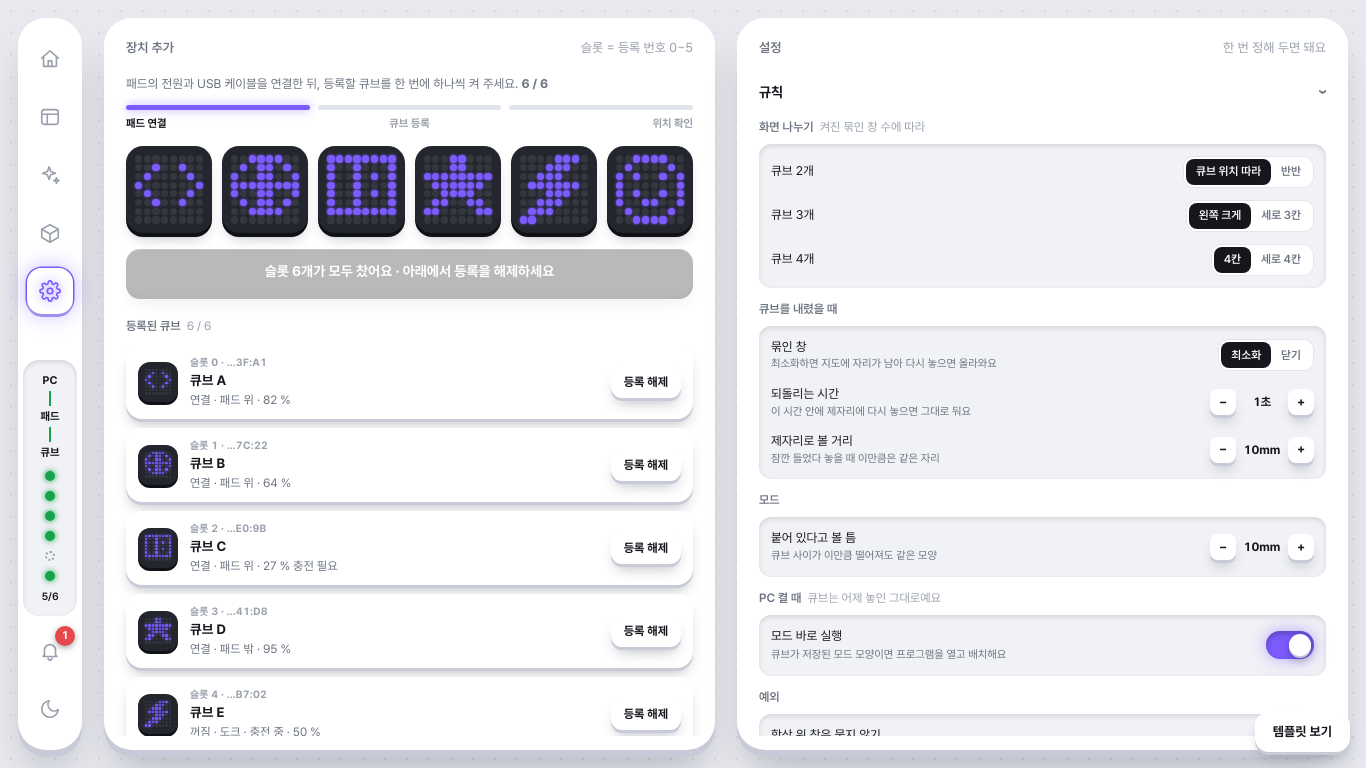
Scenario: 설정: 규칙을 바꾸고, 등록 해제는 한 번 더 눌러야 한다
Click the button "반반". click: click(1291, 172)
box: [1271,158,1311,184]
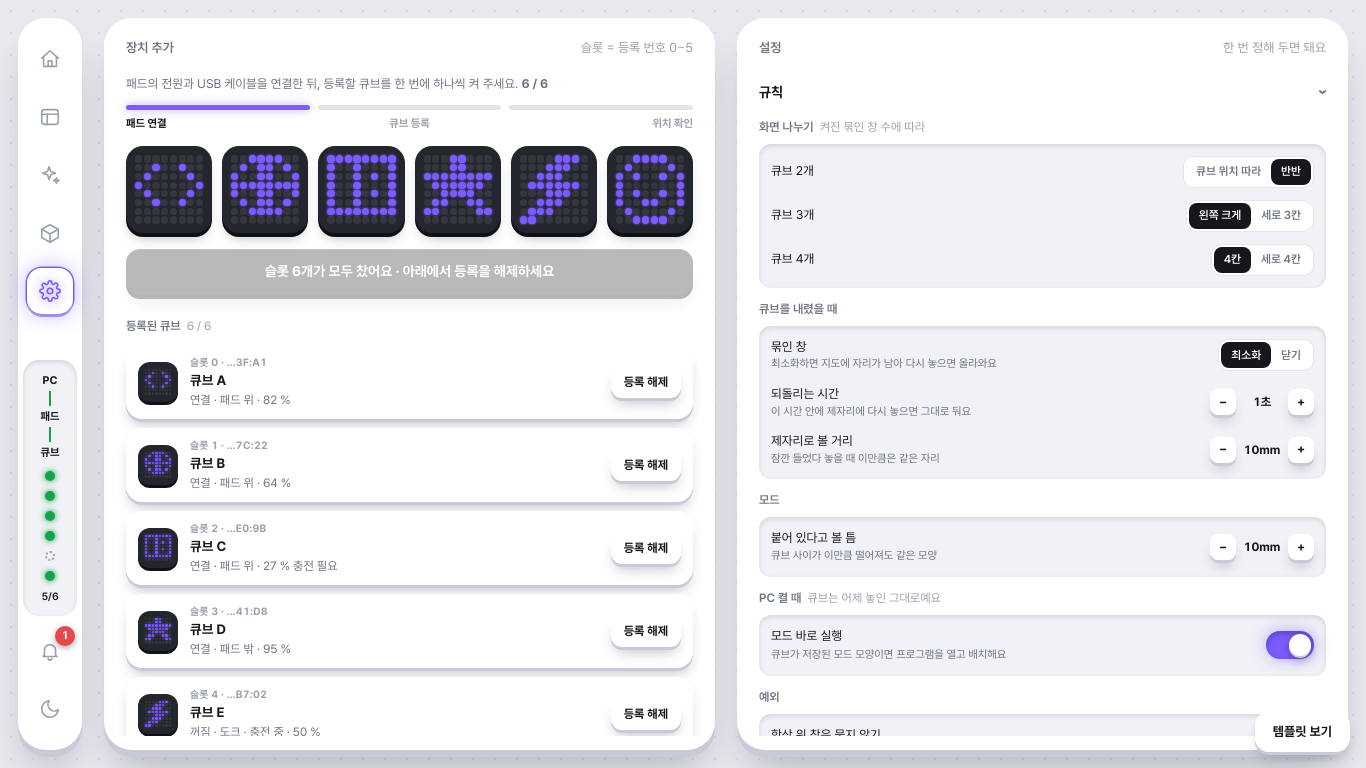
Result: the button "반반" is pressed at [1271,158,1311,184]
Click the button "등록 해제" in the row of "3F:A1". click: click(646, 382)
box: [611,366,681,398]
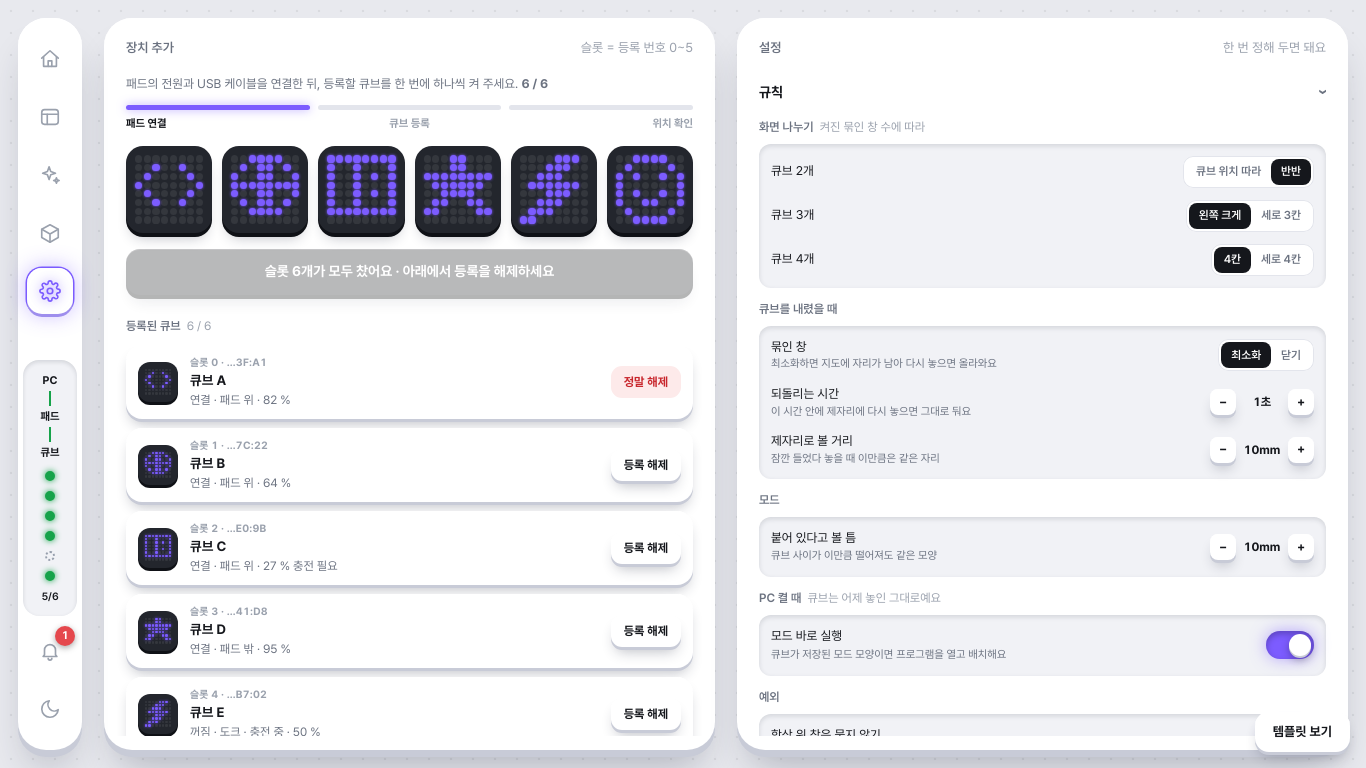
Click the button "정말 해제". click: click(646, 382)
box: [611,366,681,398]
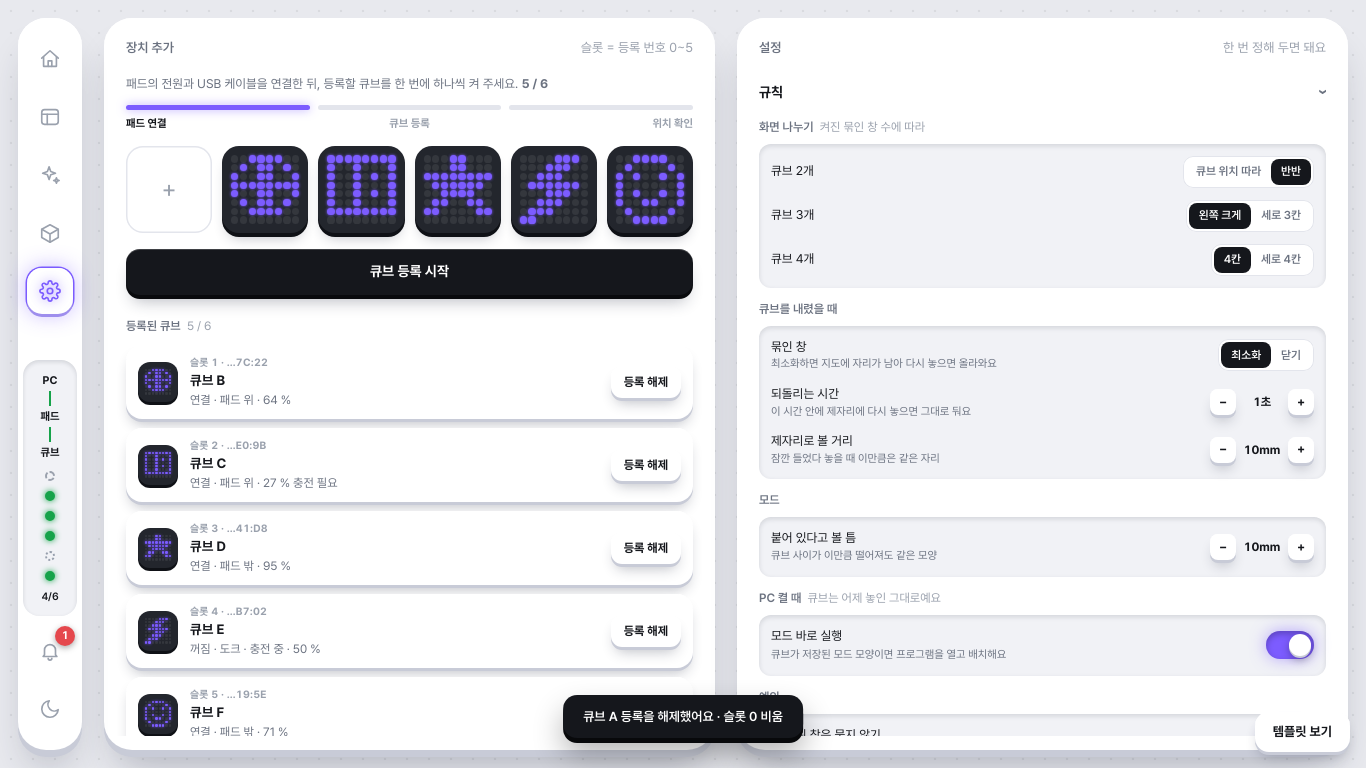
Expected: the number of buttons "등록 해제" is 5, [611,366,681,398]; [611,448,681,480]; [611,532,681,564]; [611,614,681,646]; [611,698,681,730]
Result: the button "큐브 등록 시작" is shown at [126,248,693,294]
